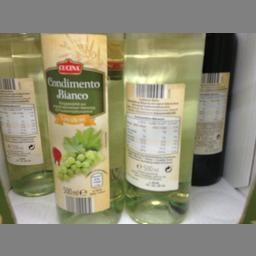vinegar: (38, 31, 126, 224), (126, 33, 204, 225), (0, 32, 55, 195)
